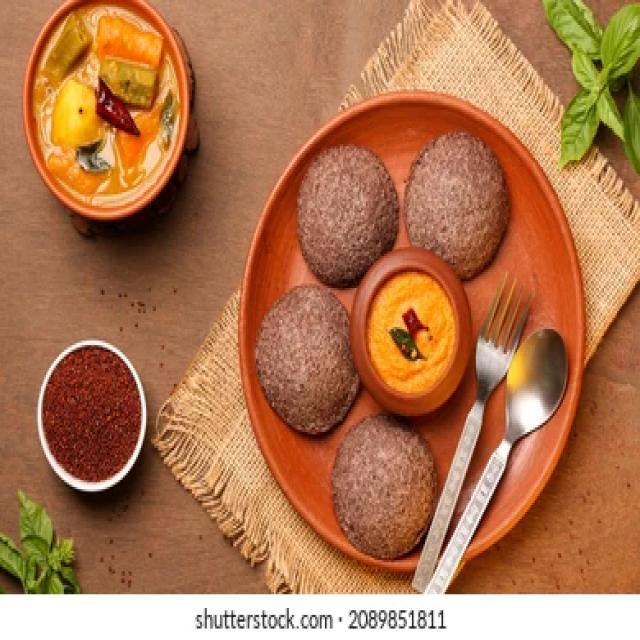IDLI: (255, 290, 367, 433), (403, 124, 513, 268), (332, 416, 437, 550), (299, 140, 400, 279)
